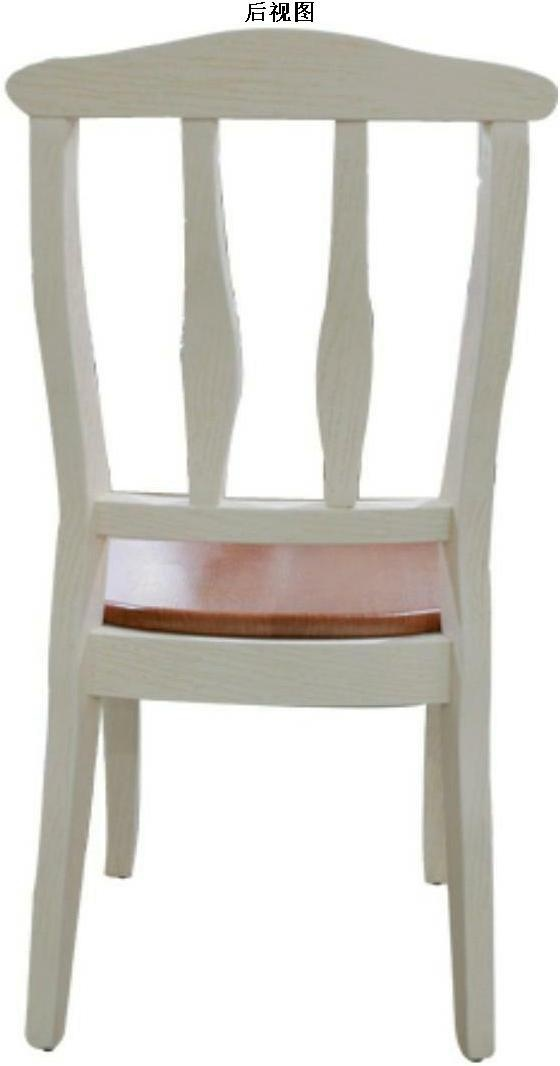obstacle: (7, 29, 554, 1059)
